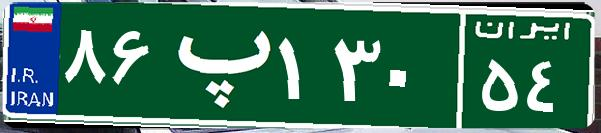0: (385, 28, 445, 110)
1: (273, 28, 330, 110)
3: (330, 28, 385, 110)
4: (525, 38, 570, 115)
5: (475, 38, 525, 113)
6: (110, 28, 158, 105)
8: (57, 26, 110, 107)
پ: (158, 15, 273, 115)
